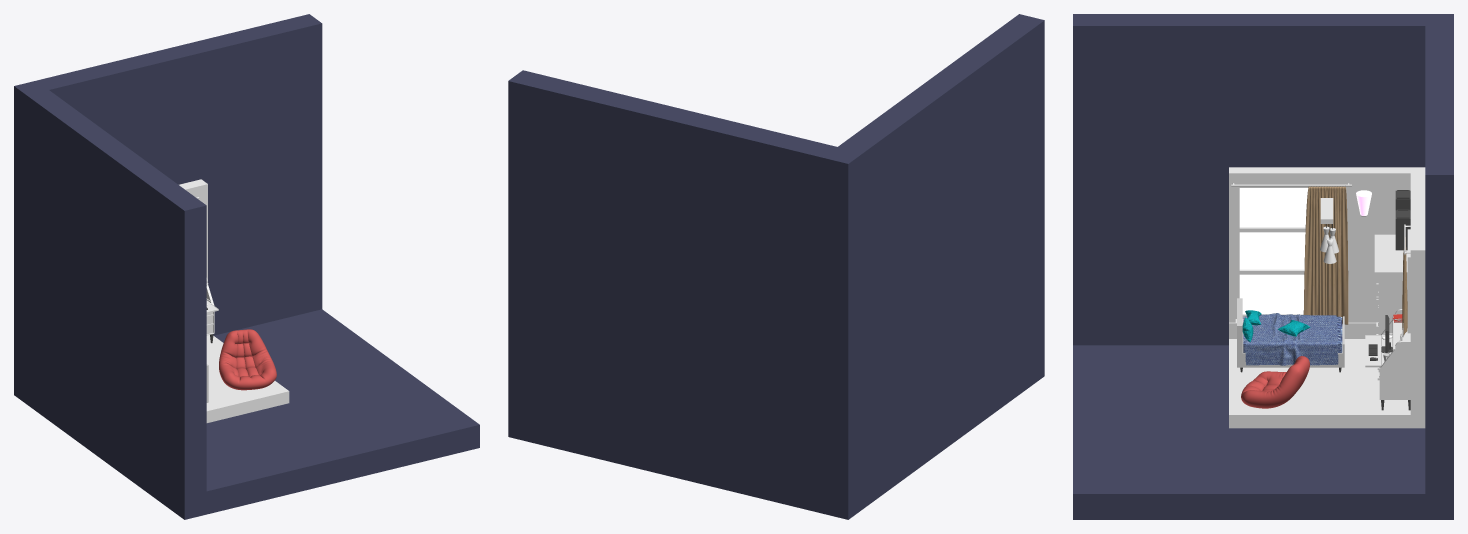
Rendered from room.glb.
3 views of the same model, side by side, from view 1: azimuth 30°, elevation 25°; view 2: azimuth 150°, elevation 25°; view 3: azimuth 270°, elevation 25° (orthographic). The views are drawn at different scales.
Parts seen in each view (by area): view 1: Walls.001, Floor, puffy_chair, Walls; view 2: Walls.001; view 3: Walls.001, Walls, Floor, window.001, curtain_1.001, bedsheet, shelf, Cupboard, puffy_chair, bed, speakers.001, chandeliers.
Boxes of the visible parts, x1=… form: Walls.001: x1=14, y1=14, x2=479, y2=519; Floor: x1=206, y1=335, x2=289, y2=422; puffy_chair: x1=219, y1=329, x2=276, y2=390; Walls: x1=179, y1=179, x2=207, y2=282; Walls.001: x1=508, y1=14, x2=1044, y2=519; Walls.001: x1=1073, y1=14, x2=1453, y2=519; Walls: x1=1229, y1=167, x2=1425, y2=414; Floor: x1=1229, y1=339, x2=1425, y2=428; window.001: x1=1235, y1=188, x2=1346, y2=322; curtain_1.001: x1=1303, y1=186, x2=1348, y2=324; bedsheet: x1=1245, y1=313, x2=1338, y2=365; shelf: x1=1365, y1=309, x2=1410, y2=410; Cupboard: x1=1374, y1=234, x2=1407, y2=372; puffy_chair: x1=1241, y1=356, x2=1309, y2=408; bed: x1=1237, y1=298, x2=1344, y2=367; speakers.001: x1=1395, y1=209, x2=1410, y2=250; chandeliers: x1=1320, y1=226, x2=1338, y2=263.
Bounding box in the file's own units: 7.75 × 7.75 × 7.75.
25 materials, 3 textured.
